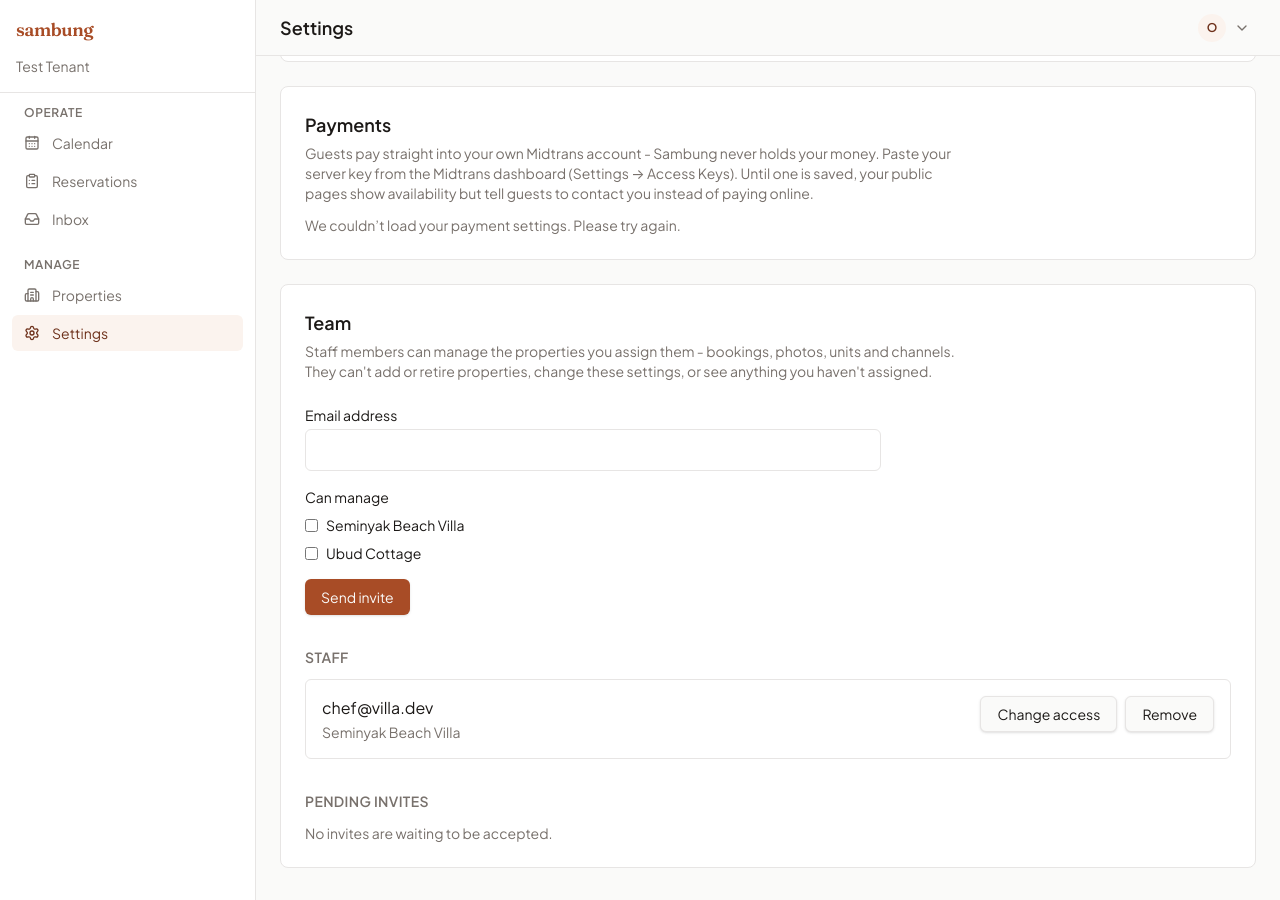
Scenario: team settings (§4.7, #57) › as an owner › refuses to save an empty assignment set, and says what to do instead
(page scrolled)
Click the button "Change access" at (1049, 714), box [980,696,1117,732]
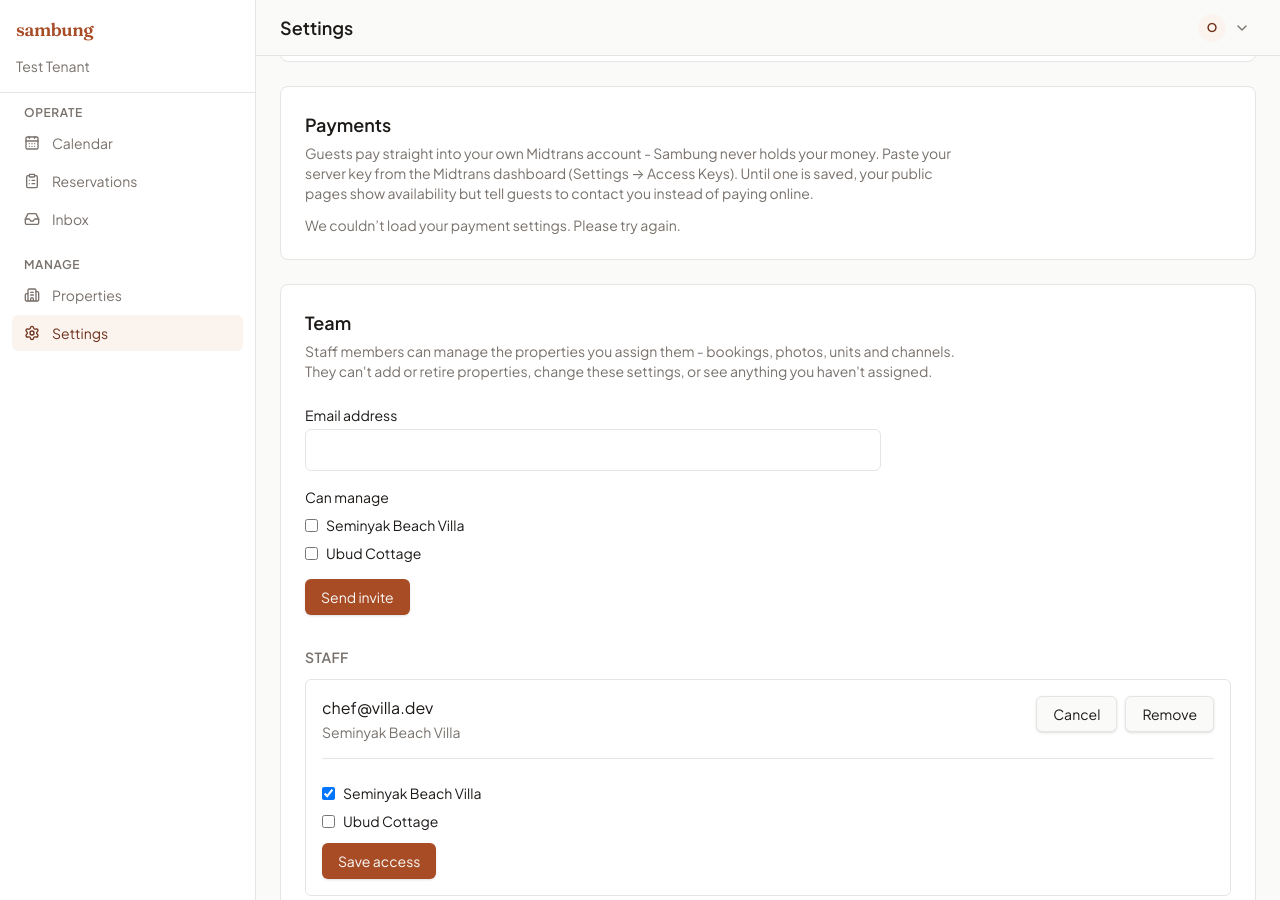
Click the checkbox labelled "Seminyak Beach Villa" below "chef@villa.dev" at (328, 793), box [322,786,335,800]
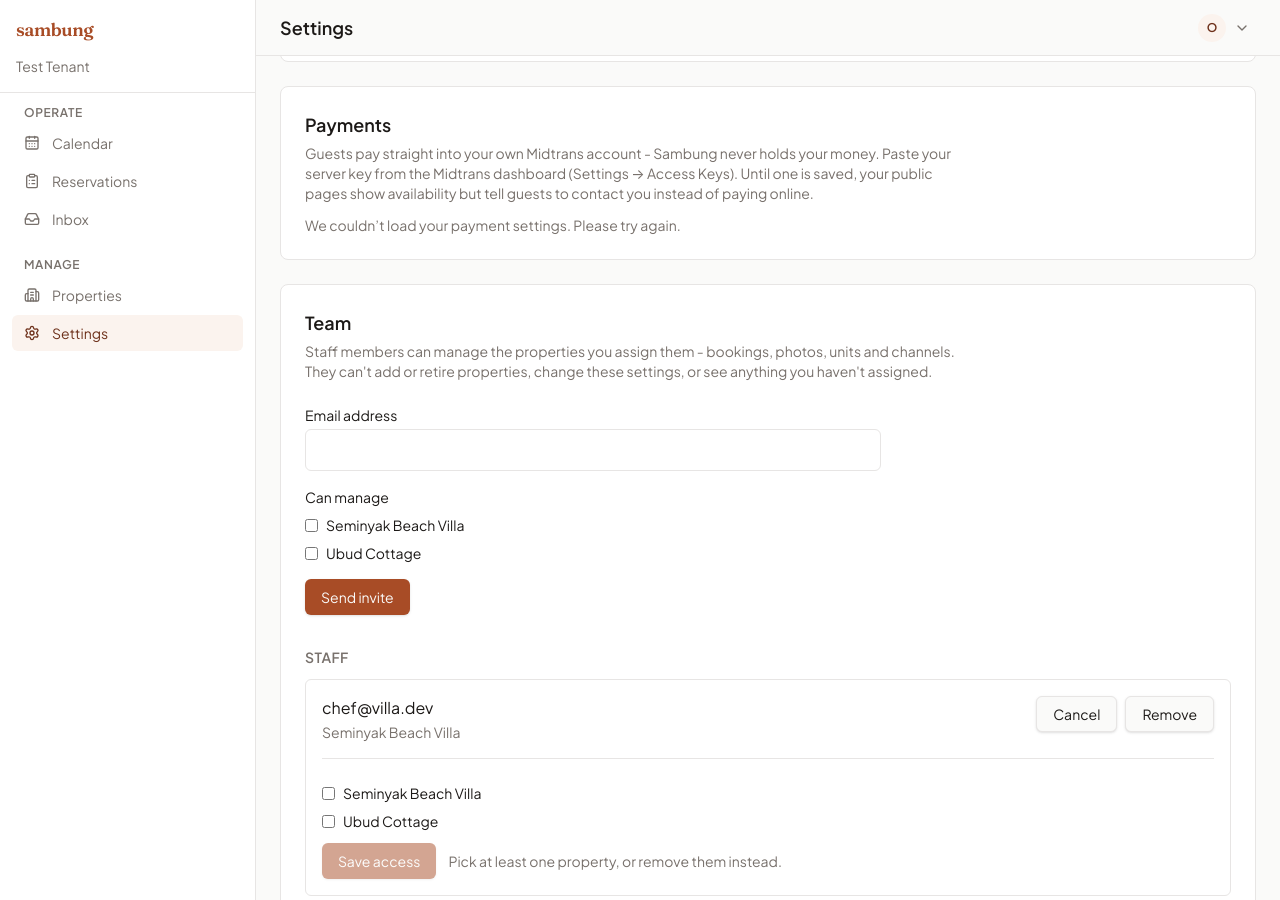
Expected: the text "Pick at least one property, or remove them instead." is shown, [448,851,782,871]
Expected: the button "Save access" is disabled, [322,843,436,879]
